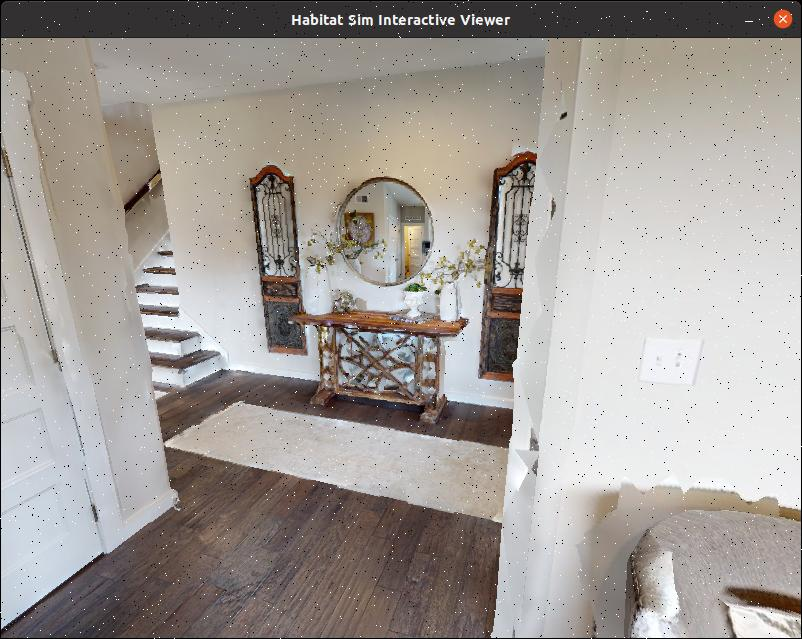stairs: (114, 148, 245, 401)
table: (279, 287, 476, 434)
